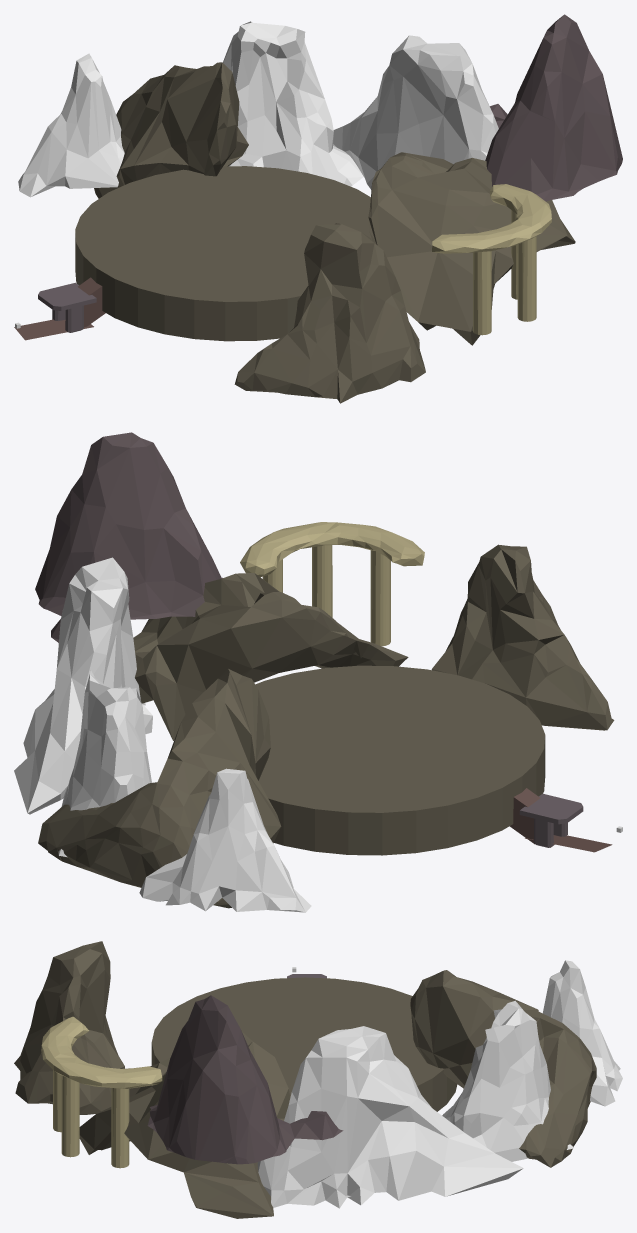
File: 巨石島的物體,內外反轉過fbx.fbx
3 views of the same model, one above another, from view 1: azimuth 30°, elevation 25°; view 2: azimuth 150°, elevation 25°; view 3: azimuth 270°, elevation 25° (orthographic). The views are drawn at different scales.
Parts seen in each view (by area): view 1: Sphere.002, Landscape.007, Landscape.008, Sphere.005, Landscape.009, Landscape.006, Landscape, Landscape.004, 圓柱體, Sphere.001, 平面, Sphere.004; view 2: Sphere.002, Landscape, Sphere.005, Landscape.008, Landscape.007, Landscape.009, Landscape.004, 圓柱體, Landscape.006, Sphere.001, Sphere.004; view 3: Landscape.009, Sphere.005, Sphere.002, Landscape, Landscape.006, Landscape.007, Landscape.008, 圓柱體, Landscape.004.
Boxes of the visible parts, box(x1,y1,x2,y2) form: Sphere.002: box(75, 166, 371, 341); Landscape.007: box(234, 223, 425, 403); Landscape.008: box(368, 152, 575, 345); Sphere.005: box(485, 14, 622, 201); Landscape.009: box(333, 35, 498, 189); Landscape.006: box(222, 21, 363, 186); Landscape: box(94, 62, 248, 198); Landscape.004: box(18, 53, 124, 197); 圓柱體: box(432, 184, 551, 335); Sphere.001: box(38, 282, 96, 332); 平面: box(14, 319, 93, 340); Sphere.004: box(78, 277, 105, 327); Sphere.002: box(255, 665, 545, 855); Landscape: box(38, 668, 281, 908); Sphere.005: box(35, 432, 222, 642); Landscape.008: box(133, 573, 408, 740); Landscape.007: box(431, 544, 614, 730); Landscape.009: box(14, 557, 152, 814); Landscape.004: box(139, 768, 311, 912); 圓柱體: box(240, 522, 424, 646); Landscape.006: box(58, 670, 151, 857); Sphere.001: box(519, 793, 583, 847); Sphere.004: box(509, 788, 540, 844); Landscape.009: box(257, 1026, 523, 1208); Sphere.005: box(147, 995, 343, 1164); Sphere.002: box(151, 977, 457, 1111); Landscape: box(410, 970, 596, 1167); Landscape.006: box(442, 1000, 573, 1161); Landscape.007: box(14, 941, 124, 1114); Landscape.008: box(79, 1032, 290, 1218); 圓柱體: box(41, 1016, 162, 1168); Landscape.004: box(542, 960, 622, 1106).
Size of the model in its own units: 478 by 206 by 468.
